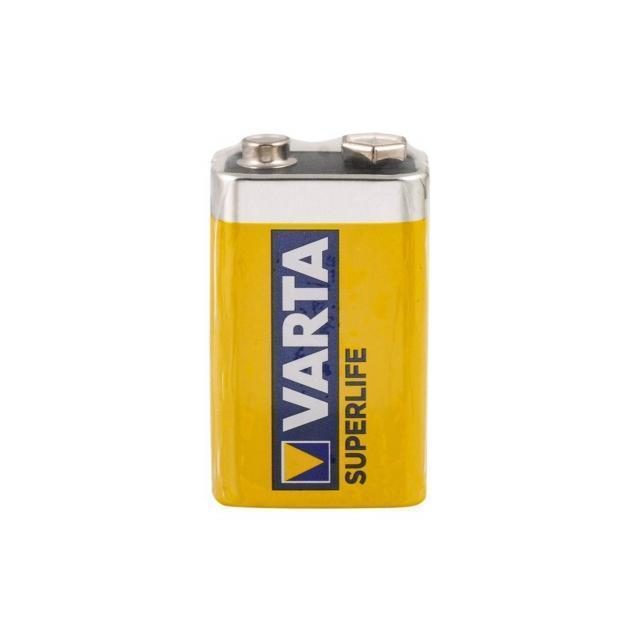Hazard: (207, 132, 430, 512)
